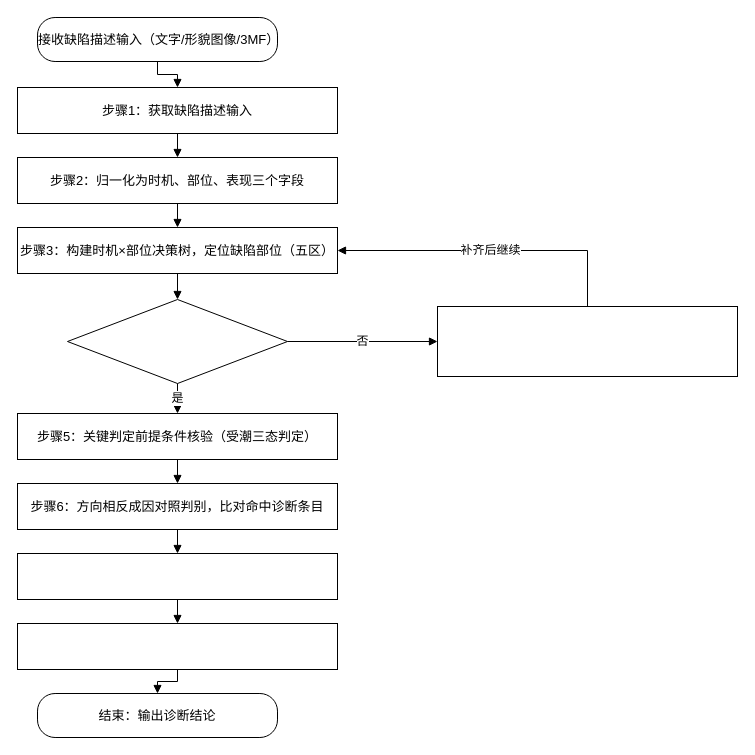
Image size: 755x755. Some labels were removed from this diagram. Each missing label, with the centre of its shape:
字段是否足以支撑判定？: (x=177, y=341)
步骤4：补齐最小信息集（机型/喷嘴直径/耗材/切片/环境）: (x=587, y=341)
步骤7：生成处置方向与验证方法，关联厂商资料索引: (x=177, y=576)
步骤8：区分正常现象与缺陷，输出现象判读结论: (x=177, y=646)
